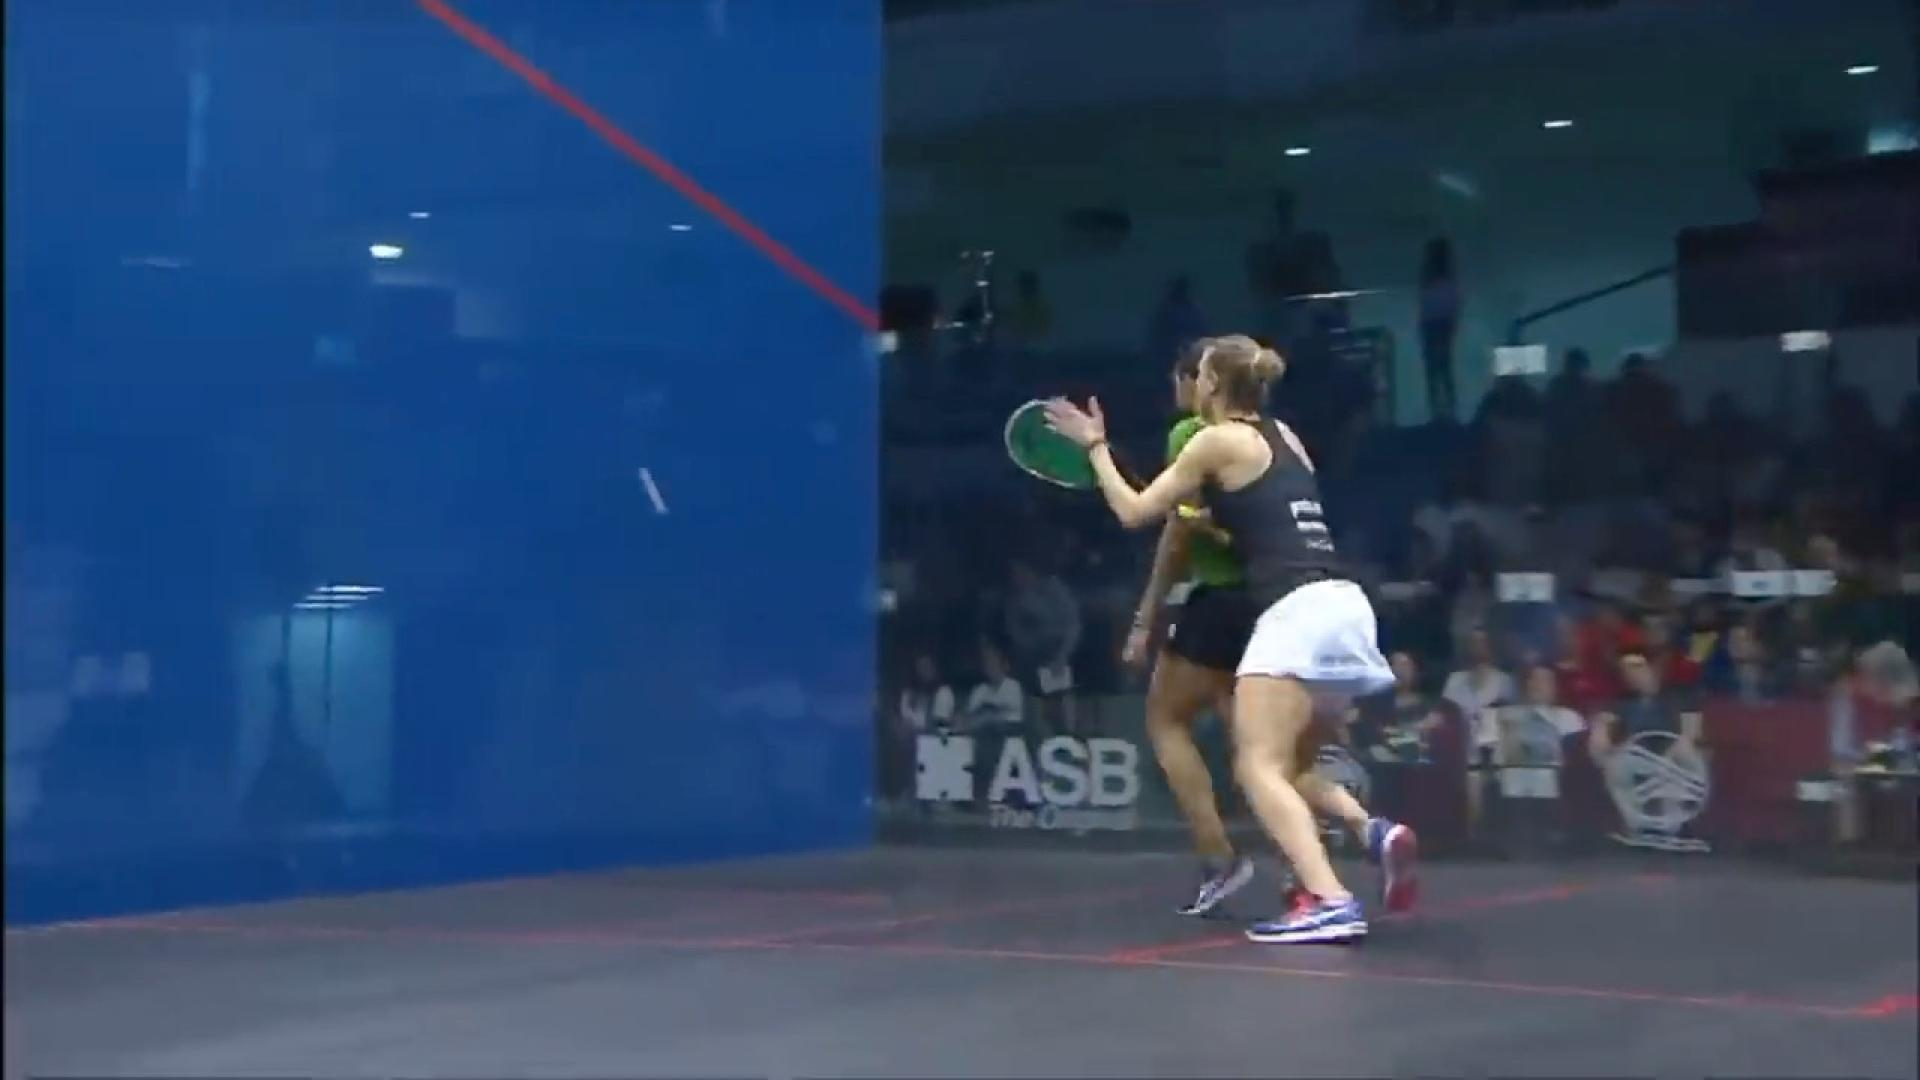Squash-Ball: (625, 460, 678, 525)
